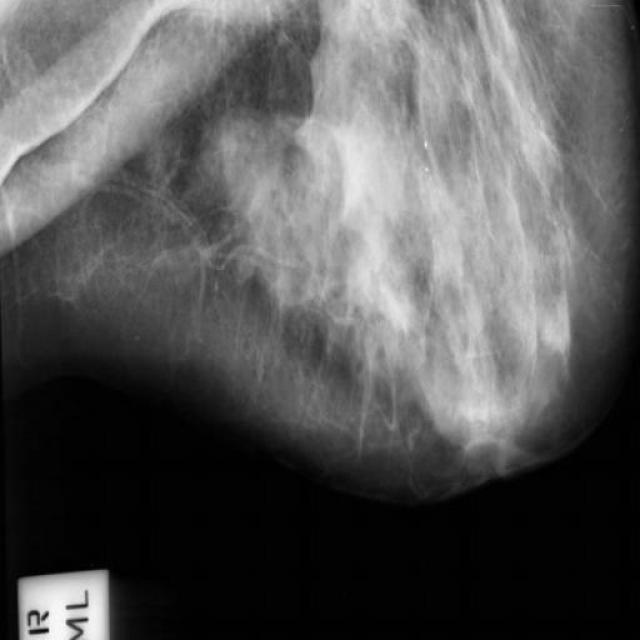cancer: (379, 277, 426, 357)
